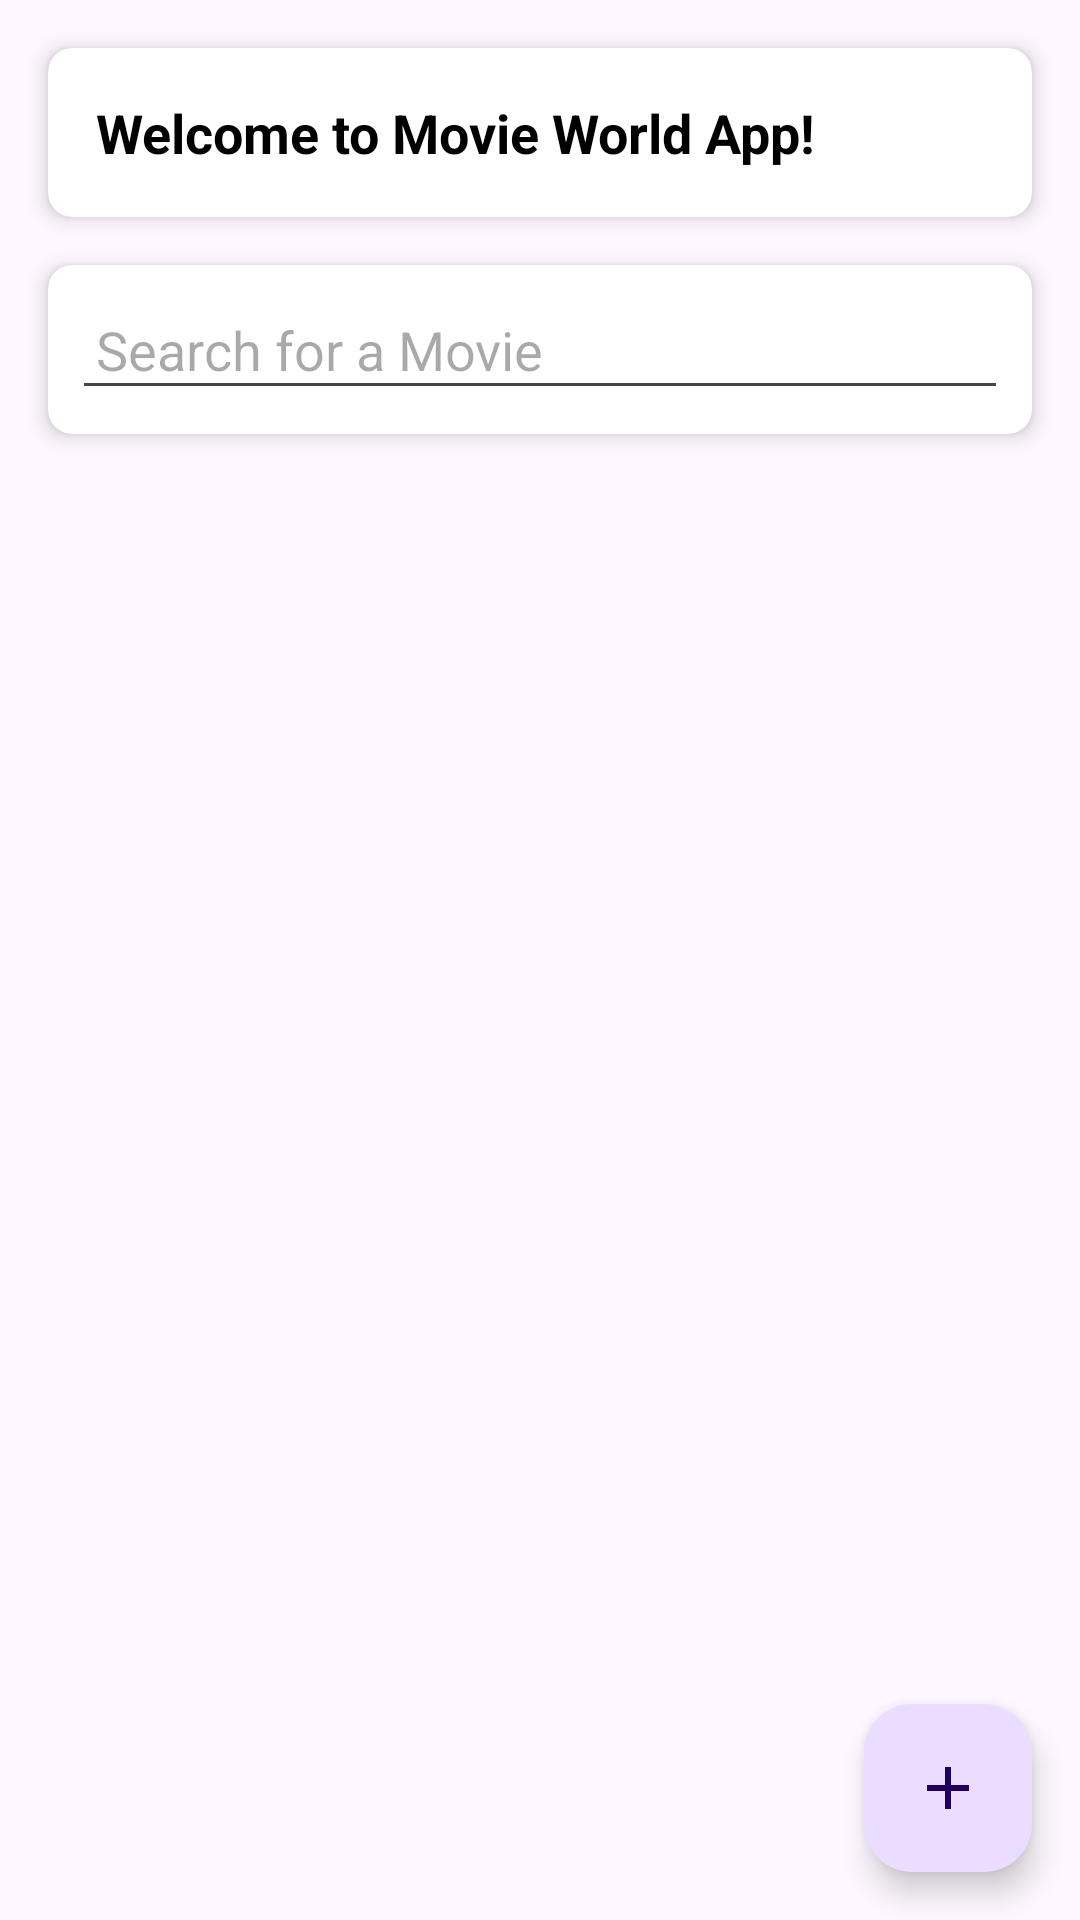

Point at icon controls on the screen. Image size 1080w x 1920h, points as [x,y].
Add New Item: [948,1788]
